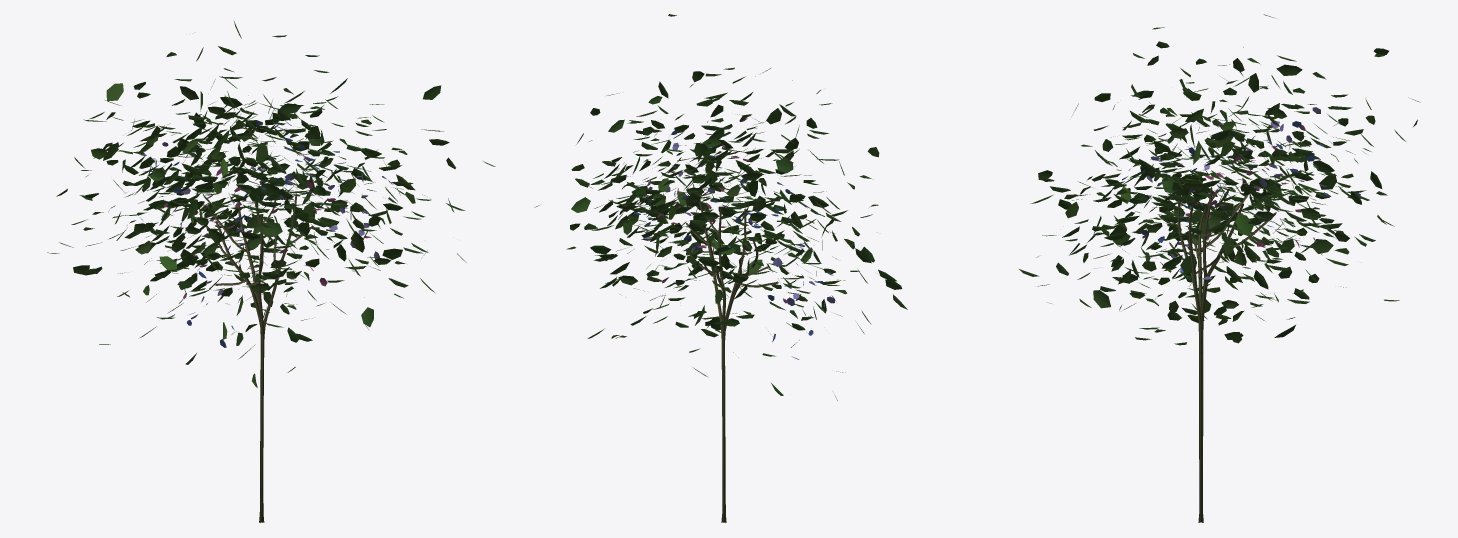
Rendered from SM_Tree_garden_shrub_1.glb.
3 views of the same model, side by side, from view 1: azimuth 30°, elevation 25°; view 2: azimuth 150°, elevation 25°; view 3: azimuth 270°, elevation 25° (orthographic). The views are drawn at different scales.
Visible parts, largest first — view 1: SM_Tree_garden_shrub_1; view 2: SM_Tree_garden_shrub_1; view 3: SM_Tree_garden_shrub_1.
Part boxes in pixels (x1,y1,x2,y2): SM_Tree_garden_shrub_1: (47, 21, 495, 522); SM_Tree_garden_shrub_1: (534, 14, 907, 522); SM_Tree_garden_shrub_1: (1019, 14, 1420, 522).
Bounding box in the file's own units: 2.41 × 3.01 × 2.55.
